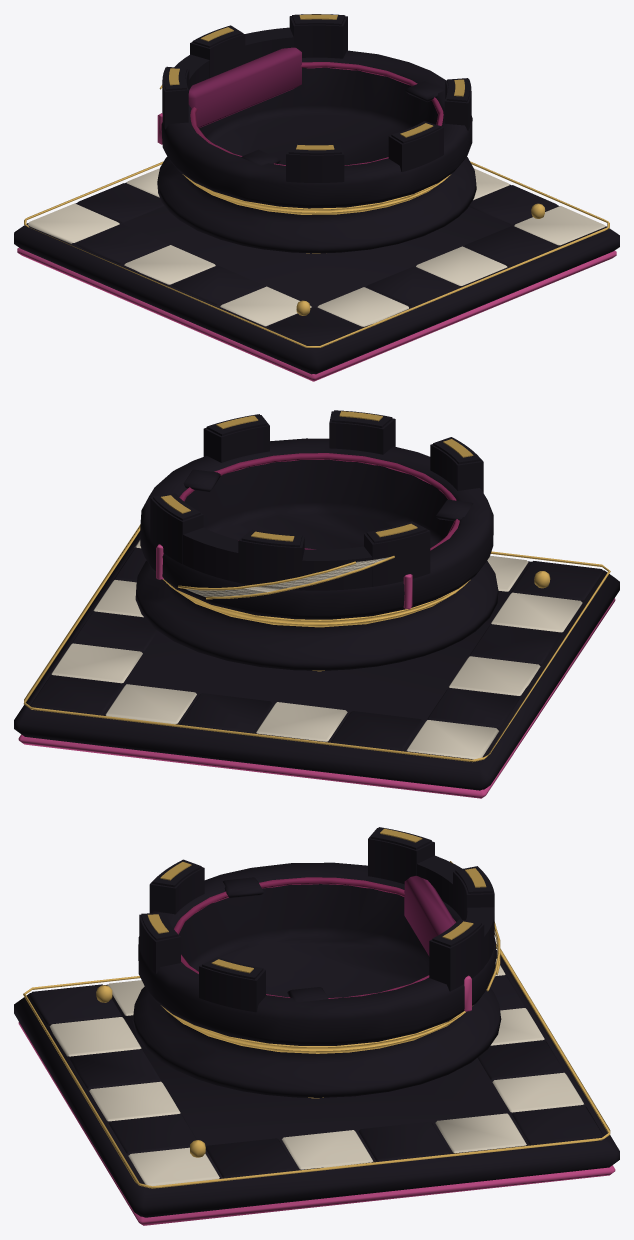
Rendered from kart.body.checkmate.glb.
The picture shows the model from 3 angles, top to bottom: view 1: azimuth 30°, elevation 25°; view 2: azimuth 150°, elevation 25°; view 3: azimuth 270°, elevation 25°; orthographic projection. The views are drawn at different scales.
Visible parts, largest first — view 1: emi_vehicle_checkmate; view 2: emi_vehicle_checkmate; view 3: emi_vehicle_checkmate.
Boxes of the visible parts, bbox=[...] form: emi_vehicle_checkmate: bbox=[14, 14, 619, 381]; emi_vehicle_checkmate: bbox=[14, 410, 619, 798]; emi_vehicle_checkmate: bbox=[14, 827, 619, 1225].
Bounding box in the file's own units: 0.4809 × 0.1816 × 0.4809.
